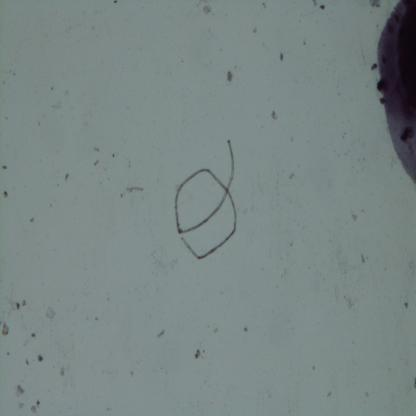Background material: (14, 383, 26, 397), (0, 322, 10, 338), (342, 296, 354, 309), (44, 307, 56, 318), (126, 187, 144, 193), (157, 328, 166, 338), (226, 71, 234, 82), (370, 0, 381, 8), (194, 348, 202, 358), (204, 6, 212, 15), (30, 404, 38, 413), (360, 253, 366, 264), (350, 214, 358, 222), (272, 110, 278, 120), (14, 300, 20, 310), (0, 163, 8, 170), (288, 172, 296, 179), (363, 390, 370, 398), (64, 172, 70, 181), (59, 366, 65, 375), (38, 353, 44, 362), (2, 190, 8, 199), (311, 0, 318, 7), (20, 298, 26, 306), (280, 50, 284, 62), (261, 1, 267, 9), (320, 3, 326, 11), (18, 401, 24, 409), (412, 377, 416, 389), (36, 398, 40, 409), (252, 26, 257, 34), (94, 160, 100, 166), (31, 331, 36, 338), (405, 302, 409, 310), (118, 192, 123, 198), (275, 177, 280, 183), (94, 147, 100, 152), (311, 364, 316, 370), (65, 89, 69, 96), (214, 328, 219, 333), (113, 0, 118, 5), (26, 358, 29, 366), (30, 216, 34, 222), (130, 370, 134, 376), (342, 132, 346, 138), (233, 64, 237, 70), (326, 392, 332, 396), (37, 121, 41, 126), (244, 327, 248, 332), (50, 86, 54, 90), (302, 41, 306, 45), (360, 209, 365, 212), (352, 340, 355, 344), (262, 42, 265, 46), (224, 14, 228, 17), (112, 152, 114, 158), (7, 352, 10, 356), (282, 167, 284, 172), (95, 317, 98, 320), (203, 348, 205, 352), (363, 157, 365, 161)
Microfibre: (174, 137, 238, 260)
Pen: (375, 0, 416, 185)
